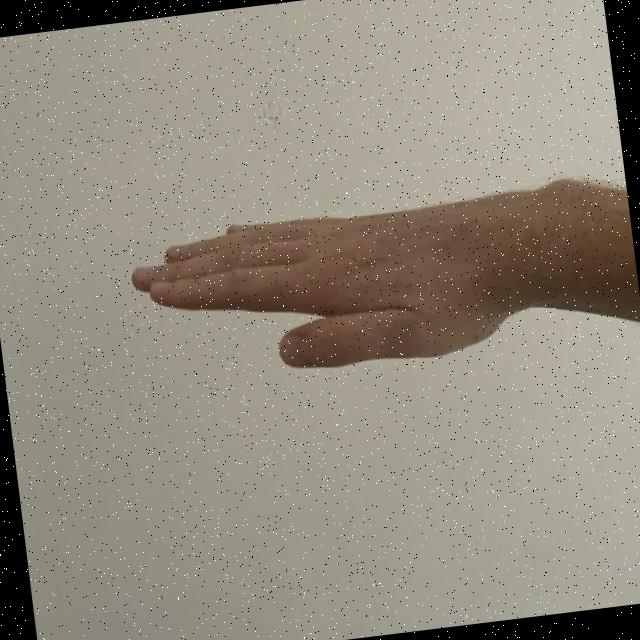papper: (119, 174, 566, 398)
